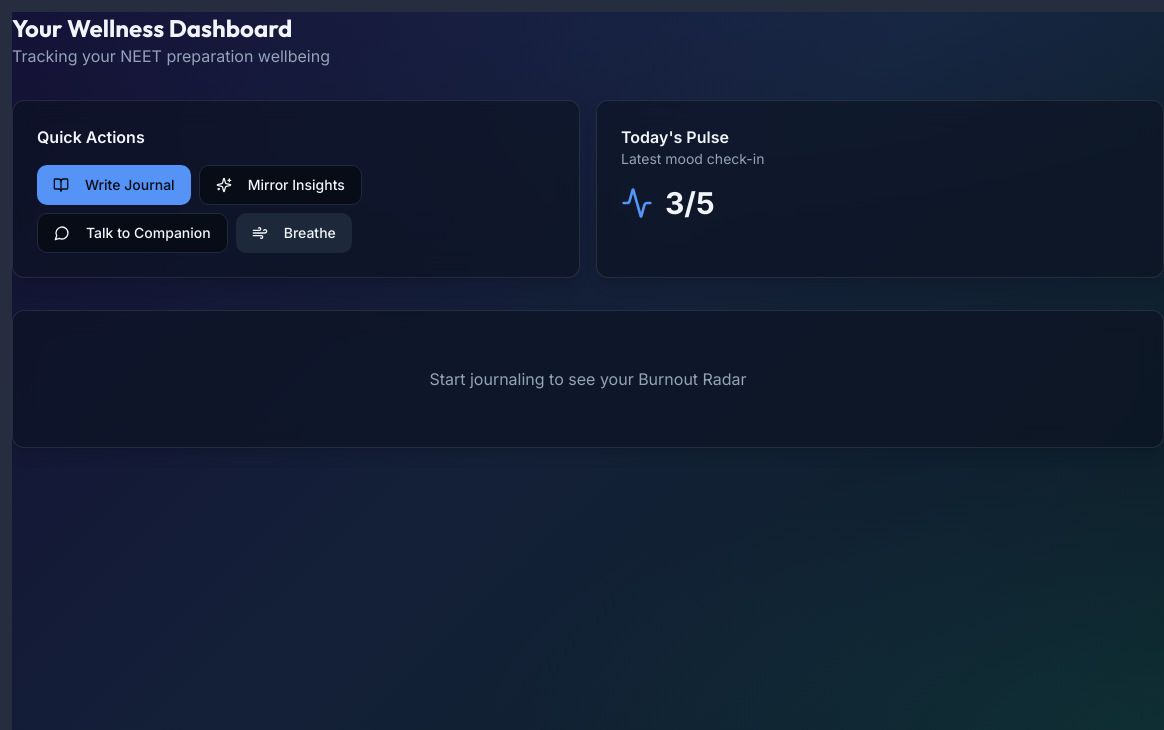
Test case: DashboardClient › renders quick actions and opens breathing exercise
Expected: the heading "Your Wellness Dashboard" is shown, [12,13,292,43]
Expected: the link with aria-label "go to journal" is shown, [37,165,191,205]
Click the button with aria-label "start breathing exercise".
click(294, 233)  # box [236,213,352,253]
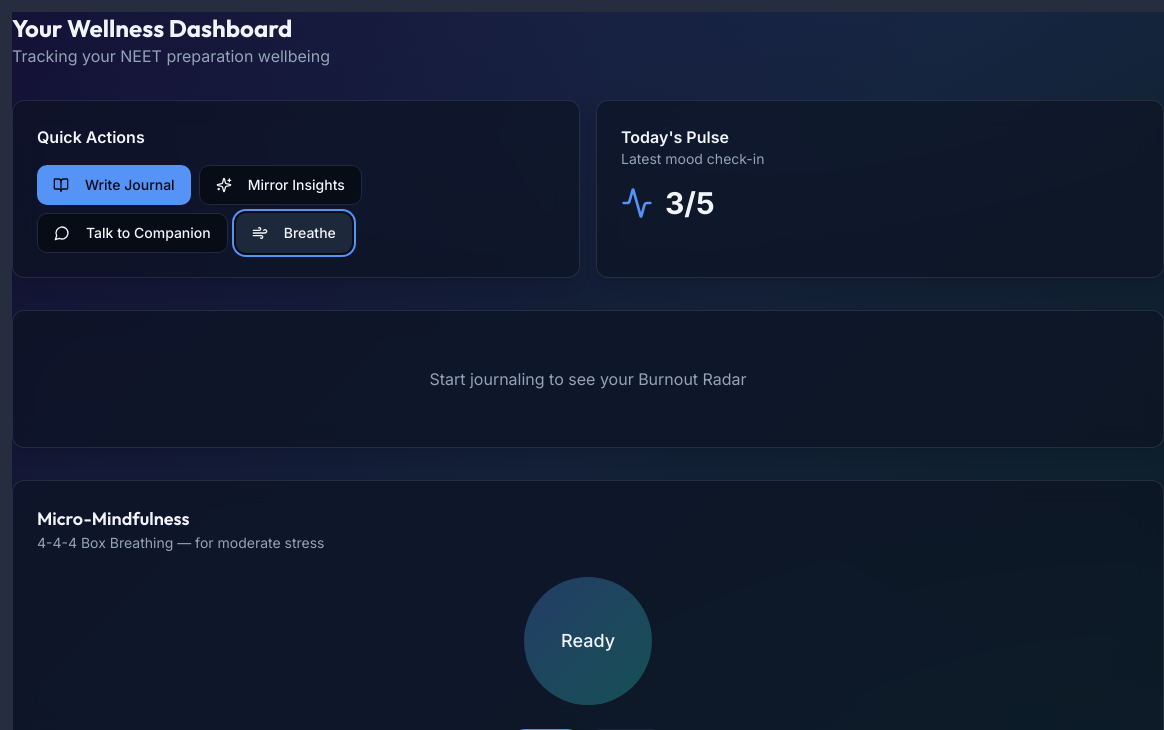
Expected: the heading "Micro-Mindfulness" is shown, [37,507,190,530]
